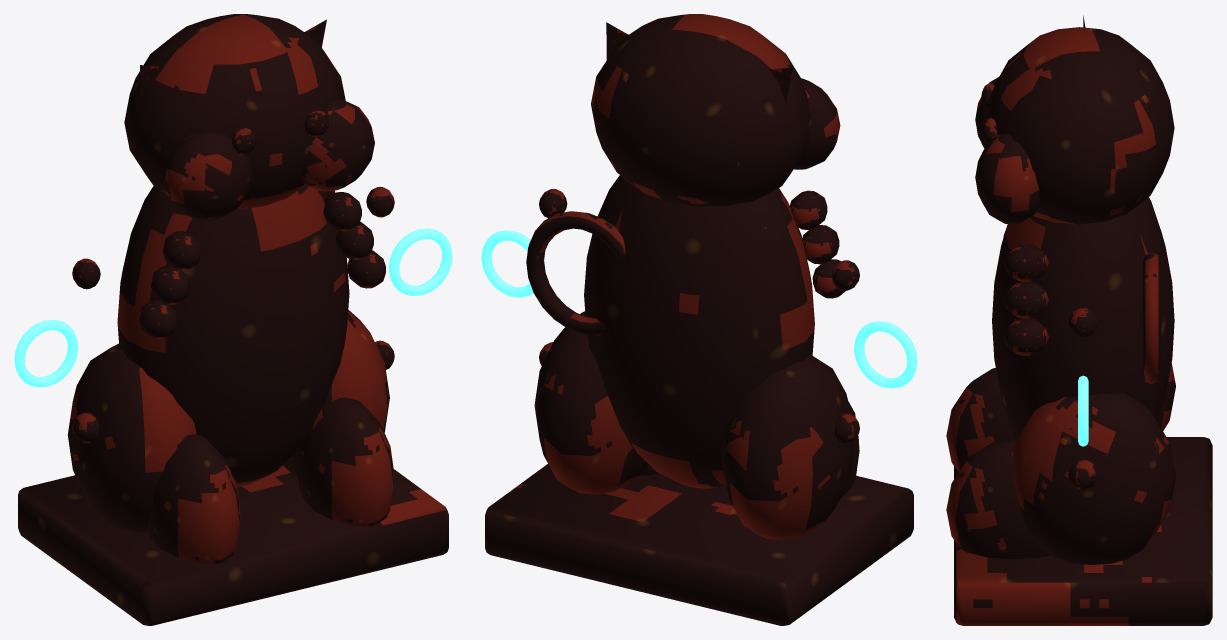
Rendered from guardian_statue_pattern_cinnabar.fbx.
The picture shows the model from 3 angles, left to right: view 1: azimuth 30°, elevation 25°; view 2: azimuth 150°, elevation 25°; view 3: azimuth 270°, elevation 25°; orthographic projection.
Parts seen in each view (by area): view 1: TH10_Guardian_Torso, TH10_Guardian_Plinth, TH10_Guardian_Head, TH10_Guardian_Haunch, TH10_Guardian_Foreleg.001, TH10_Guardian_Foreleg, TH10_Guardian_Cheek, TH10_Guardian_Cheek.001, TH10_Guardian_Haunch.001, TH10_Guardian_Handle.001, TH10_Guardian_Handle, TH10_Guardian_Mane (+8 smaller); view 2: TH10_Guardian_Torso, TH10_Guardian_Plinth, TH10_Guardian_Head, TH10_Guardian_Haunch, TH10_Guardian_Haunch.001, TH10_Guardian_Tail, TH10_Guardian_Cheek, TH10_Guardian_Handle, TH10_Guardian_Handle.001, TH10_Guardian_Mane, TH10_Guardian_Mane.001, TH10_Guardian_Mane.002 (+3 smaller); view 3: TH10_Guardian_Head, TH10_Guardian_Torso, TH10_Guardian_Plinth, TH10_Guardian_Haunch.001, TH10_Guardian_Foreleg.001, TH10_Guardian_Cheek.001, TH10_Guardian_Foreleg, TH10_Guardian_Tail, TH10_Guardian_Mane.003, TH10_Guardian_Mane.005, TH10_Guardian_Mane.004, TH10_Guardian_Handle.001 (+4 smaller).
Part boxes in pixels (left/top/right/bottom): TH10_Guardian_Torso: left=117, top=185, right=349, bottom=486; TH10_Guardian_Plinth: left=18, top=465, right=448, bottom=625; TH10_Guardian_Head: left=124, top=14, right=345, bottom=209; TH10_Guardian_Haunch: left=67, top=343, right=196, bottom=532; TH10_Guardian_Foreleg.001: left=296, top=397, right=394, bottom=526; TH10_Guardian_Foreleg: left=146, top=433, right=240, bottom=563; TH10_Guardian_Cheek: left=164, top=132, right=253, bottom=220; TH10_Guardian_Cheek.001: left=302, top=99, right=374, bottom=191; TH10_Guardian_Haunch.001: left=283, top=310, right=389, bottom=477; TH10_Guardian_Handle.001: left=388, top=228, right=452, bottom=295; TH10_Guardian_Handle: left=14, top=320, right=78, bottom=387; TH10_Guardian_Mane: left=162, top=231, right=201, bottom=270; TH10_Guardian_Torso: left=584, top=175, right=814, bottom=488; TH10_Guardian_Plinth: left=485, top=464, right=913, bottom=625; TH10_Guardian_Head: left=591, top=14, right=811, bottom=206; TH10_Guardian_Haunch: left=721, top=354, right=855, bottom=539; TH10_Guardian_Haunch.001: left=534, top=311, right=647, bottom=494; TH10_Guardian_Tail: left=526, top=211, right=625, bottom=335; TH10_Guardian_Cheek: left=794, top=78, right=840, bottom=169; TH10_Guardian_Handle: left=854, top=321, right=917, bottom=388; TH10_Guardian_Handle.001: left=481, top=230, right=533, bottom=297; TH10_Guardian_Mane: left=790, top=190, right=827, bottom=229; TH10_Guardian_Mane.001: left=802, top=225, right=839, bottom=264; TH10_Guardian_Mane.002: left=812, top=259, right=845, bottom=298; TH10_Guardian_Head: left=985, top=27, right=1174, bottom=224; TH10_Guardian_Torso: left=992, top=197, right=1174, bottom=439; TH10_Guardian_Plinth: left=954, top=437, right=1212, bottom=625; TH10_Guardian_Haunch.001: left=1012, top=393, right=1175, bottom=564; TH10_Guardian_Foreleg.001: left=946, top=439, right=1050, bottom=559; TH10_Guardian_Cheek.001: left=975, top=133, right=1040, bottom=224; TH10_Guardian_Foreleg: left=946, top=368, right=1014, bottom=472; TH10_Guardian_Tail: left=1142, top=252, right=1160, bottom=383; TH10_Guardian_Mane.003: left=1003, top=244, right=1048, bottom=281; TH10_Guardian_Mane.005: left=1003, top=318, right=1048, bottom=355; TH10_Guardian_Mane.004: left=1003, top=281, right=1048, bottom=318; TH10_Guardian_Handle.001: left=1078, top=375, right=1088, bottom=446.
Size of the model in its own units: 0.654 by 0.75 by 0.35.
Materials: 2 (1 with a texture image).
